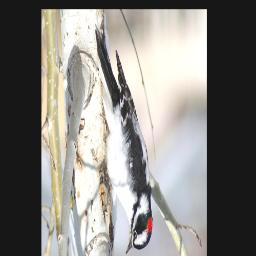Woodpecker: (94, 23, 152, 256)
